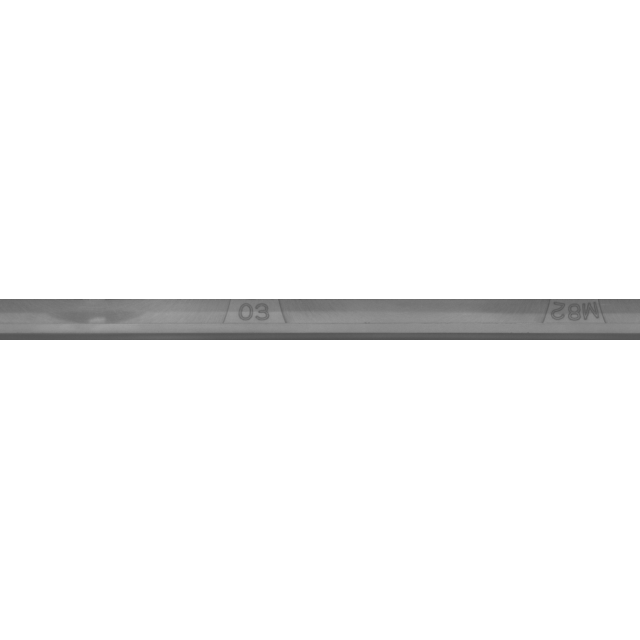mohao: (478, 270, 640, 370)
xuehao: (158, 270, 358, 370)
